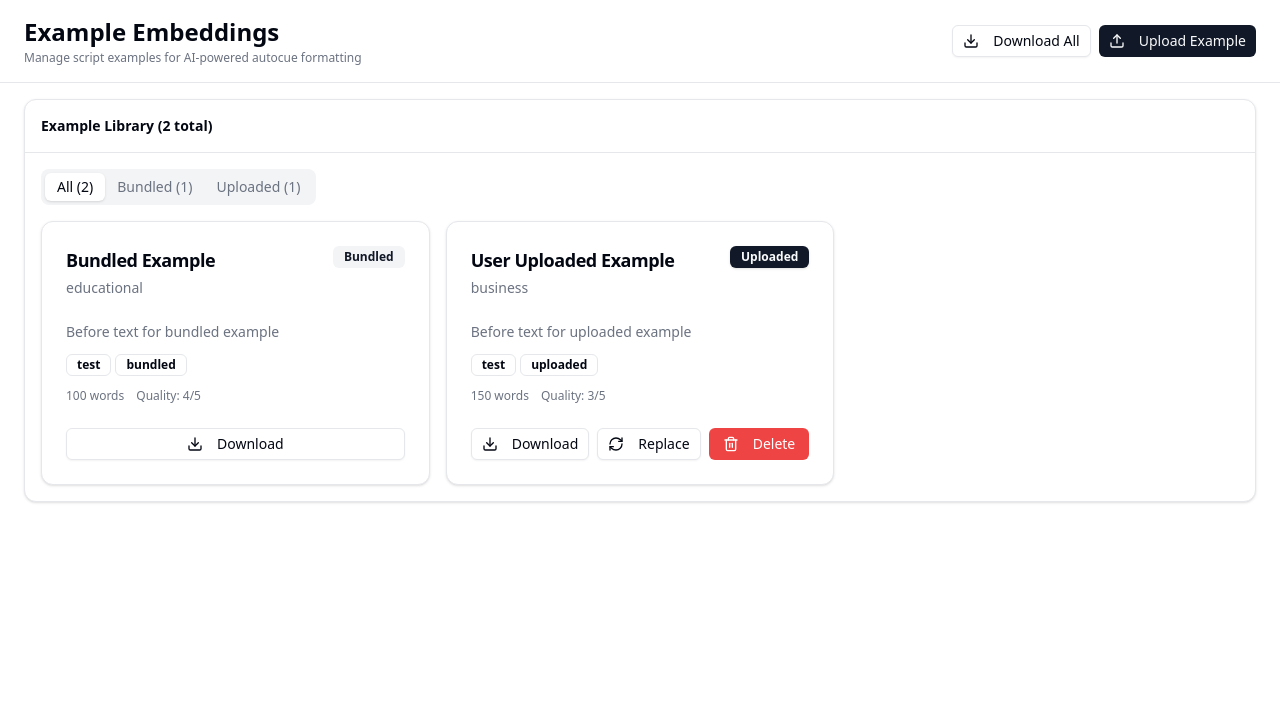
Scenario: Example Management Integration - Upload Workflow (T019) › should disable form during submission
Expected: the tab "All (2)" is shown, [45,173,105,201]
Note: Open dialog
What coordinates should you click on to do the following:
click the button "Upload Example"
I would click on:
 (1177, 41)
Its box is [1099,25,1256,57].
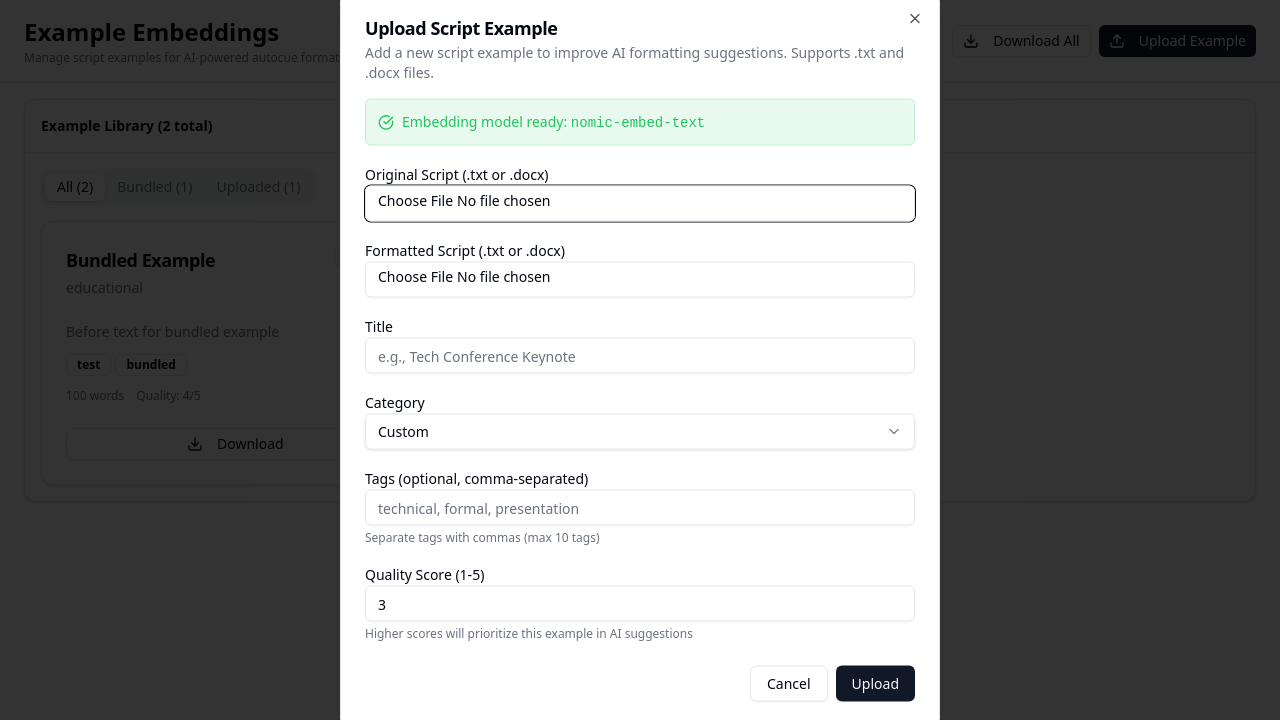
Result: the button "Cancel" is enabled at [750,666,828,702]
